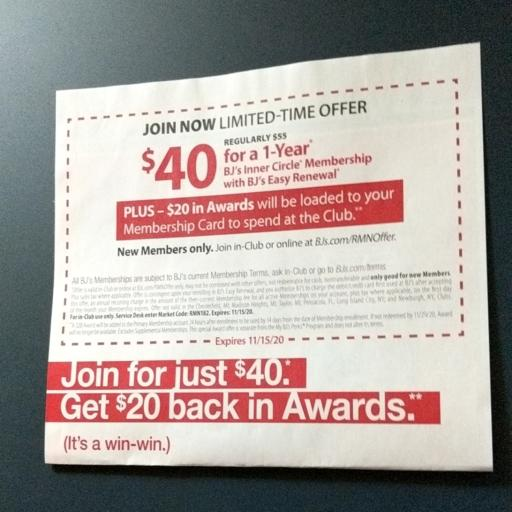paper: (21, 30, 497, 512)
